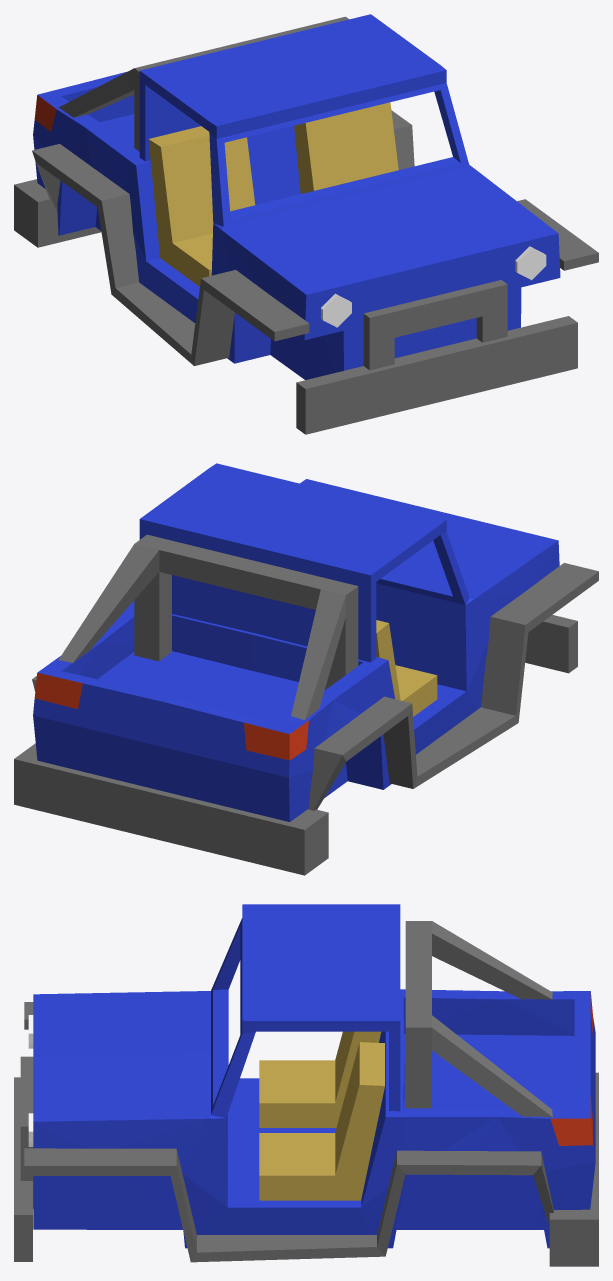
Rendered from jeep.glb.
The picture shows the model from 3 angles, top to bottom: view 1: azimuth 30°, elevation 25°; view 2: azimuth 150°, elevation 25°; view 3: azimuth 270°, elevation 25°; orthographic projection. The views are drawn at different scales.
Visible parts, largest first — view 1: Jeep; view 2: Jeep; view 3: Jeep.
Boxes of the visible parts, x1=… form: Jeep: x1=14, y1=14, x2=598, y2=434; Jeep: x1=14, y1=463, x2=598, y2=875; Jeep: x1=14, y1=904, x2=598, y2=1266.
Bounding box in the file's own units: 2.76 × 1.81 × 4.15.
